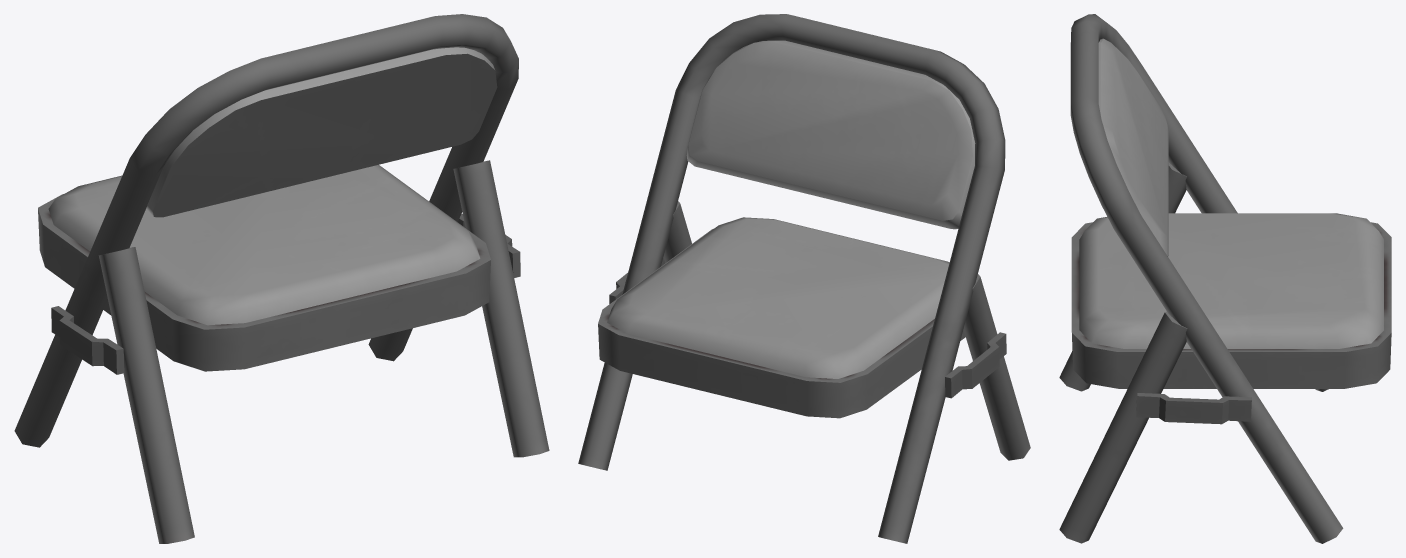
File: Pfb_Chair__2.fbx
3 renders of one model, left to right at view 1: azimuth 30°, elevation 25°; view 2: azimuth 150°, elevation 25°; view 3: azimuth 270°, elevation 25°, orthographic. The views are drawn at different scales.
Visible parts, largest first — view 1: Mat_Chair_02_White; view 2: Mat_Chair_02_White; view 3: Mat_Chair_02_White.
Part boxes in pixels (x1,y1,x2,y2): Mat_Chair_02_White: (14,14,549,543); Mat_Chair_02_White: (578,14,1030,543); Mat_Chair_02_White: (1059,14,1391,543).
Size of the model in its own units: 0.93 by 0.9795 by 0.7249.
1 material, 1 textured.
